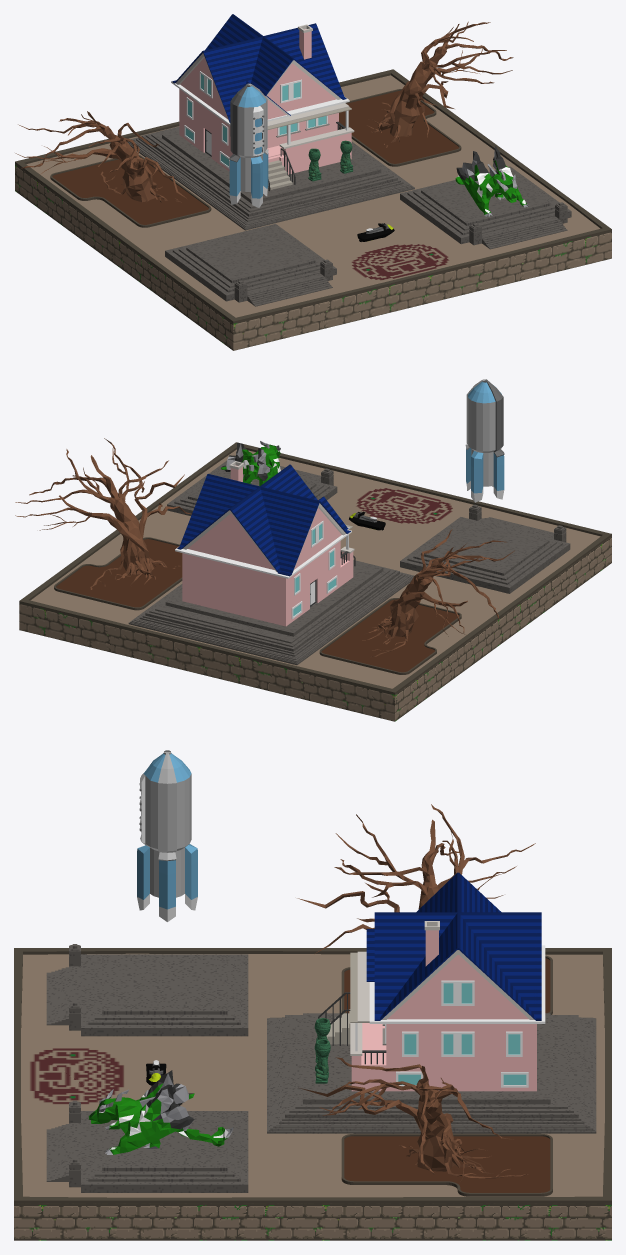
3 renders of one model, top to bottom at view 1: azimuth 30°, elevation 25°; view 2: azimuth 150°, elevation 25°; view 3: azimuth 270°, elevation 25°, orthographic. The views are drawn at different scales.
Visible parts, largest first — view 1: Cube.011, Cube.313, OBJRANDOM_ROCKETSHIP, ANIMAL_DRAGON; view 2: Cube.011, Cube.313, OBJRANDOM_ROCKETSHIP, ANIMAL_DRAGON; view 3: Cube.011, Cube.313, OBJRANDOM_ROCKETSHIP, ANIMAL_DRAGON.
Part boxes in pixels (x1=…): Cube.011: x1=15, y1=21, x2=611, y2=350; Cube.313: x1=171, y1=14, x2=354, y2=191; OBJRANDOM_ROCKETSHIP: x1=229, y1=83, x2=268, y2=207; ANIMAL_DRAGON: x1=455, y1=145, x2=529, y2=216; Cube.011: x1=15, y1=438, x2=611, y2=721; Cube.313: x1=175, y1=461, x2=355, y2=626; OBJRANDOM_ROCKETSHIP: x1=465, y1=379, x2=504, y2=502; ANIMAL_DRAGON: x1=221, y1=441, x2=280, y2=486; Cube.011: x1=14, y1=804, x2=611, y2=1240; Cube.313: x1=318, y1=872, x2=545, y2=1091; OBJRANDOM_ROCKETSHIP: x1=137, y1=750, x2=197, y2=921; ANIMAL_DRAGON: x1=88, y1=1070, x2=233, y2=1154.
Size of the model in its own units: 5099 by 2328 by 4000.
33 materials, 5 textured.
